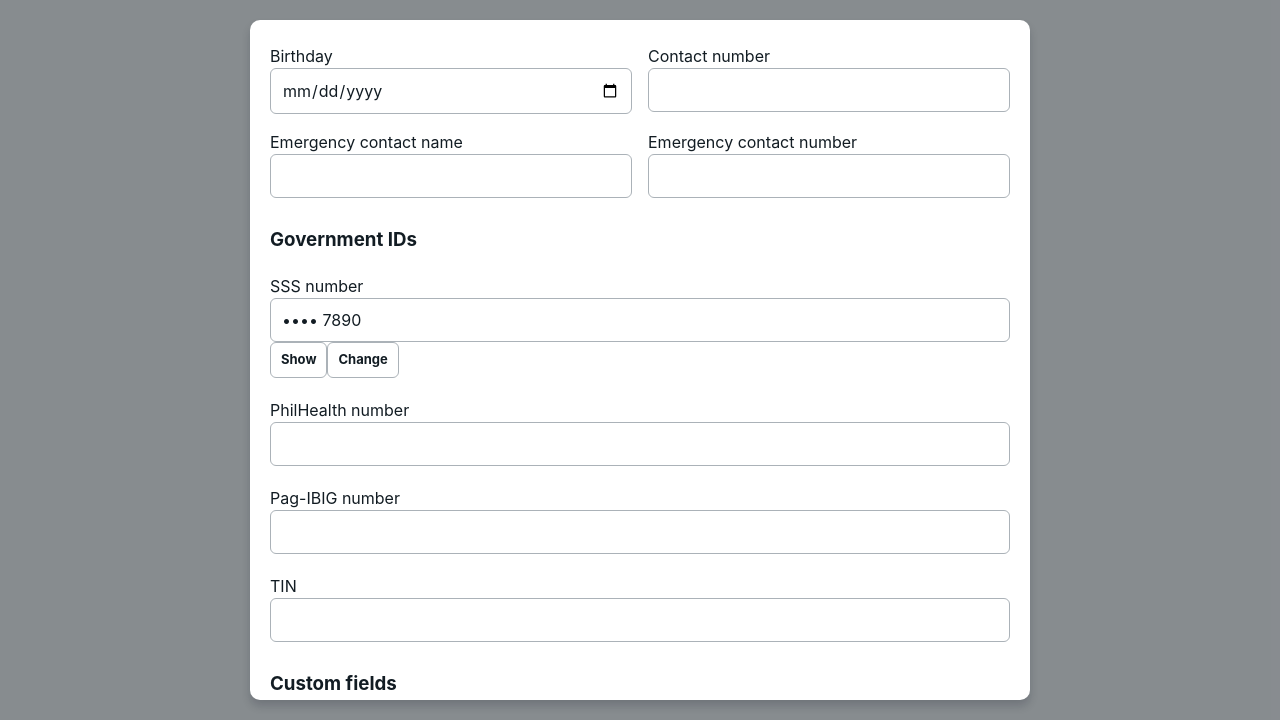
EmploymentDetailsDialog › keeps government IDs masked until Show explicitly reveals them
(page scrolled)
Expected: the field showing "•••• 7890" is shown, [270, 298, 1010, 342]
Expected: the field showing "1234567890" is not shown
Click the button "Show" at (299, 360), box [270, 342, 328, 378]
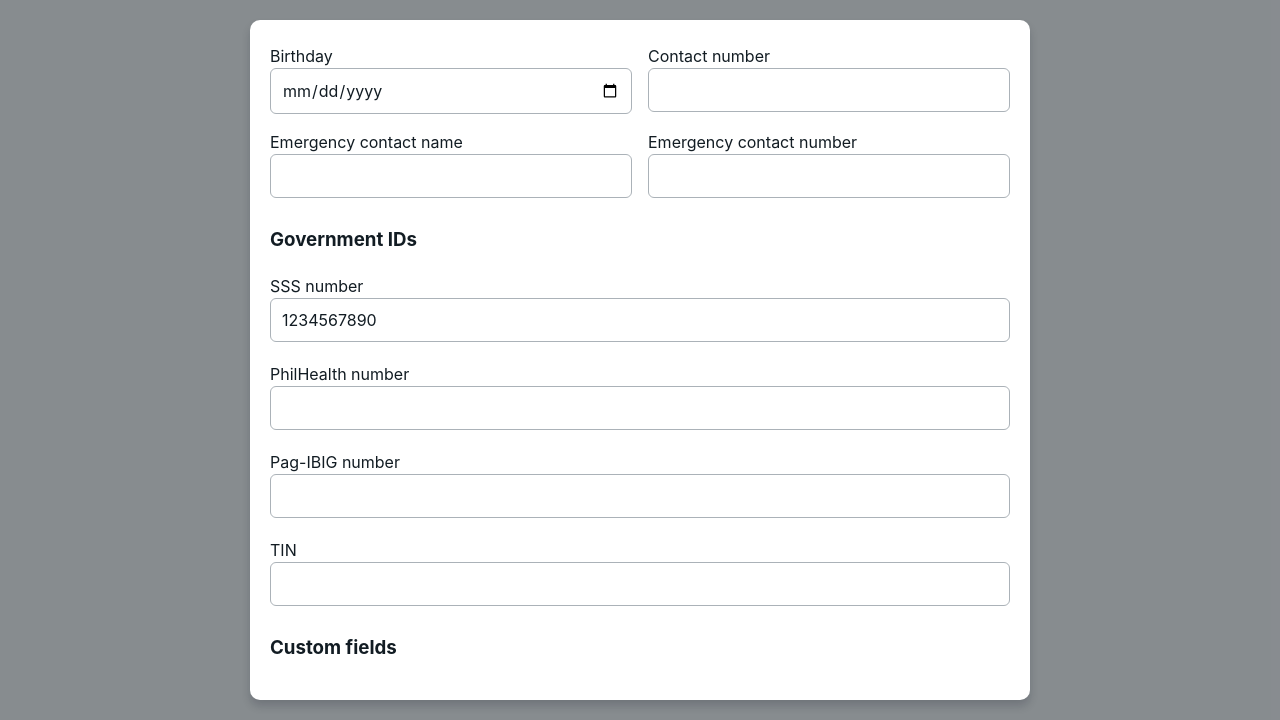
Expected: the field showing "1234567890" is shown, [270, 298, 1010, 342]
